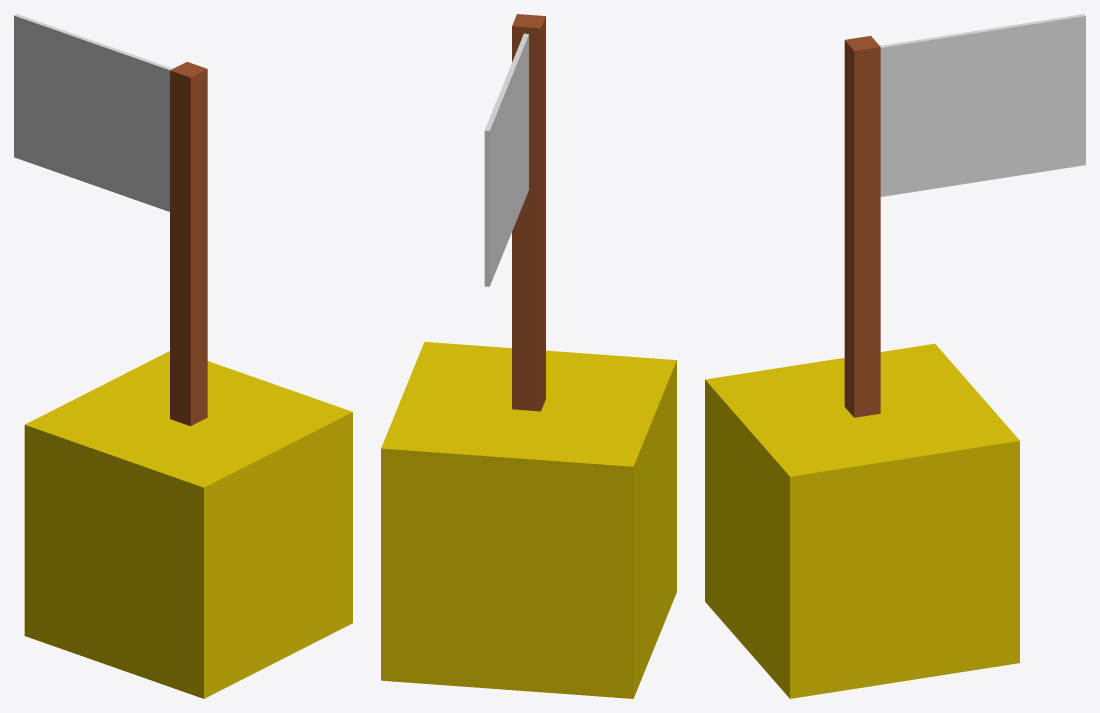
File: Cheese.fbx
The picture shows the model from 3 angles, left to right: view 1: azimuth 30°, elevation 25°; view 2: azimuth 150°, elevation 25°; view 3: azimuth 270°, elevation 25°; orthographic projection. The views are drawn at different scales.
Visible parts, largest first — view 1: Cube.005; view 2: Cube.005; view 3: Cube.005.
Boxes of the visible parts, x1=… form: Cube.005: x1=14, y1=14, x2=352, y2=698; Cube.005: x1=381, y1=14, x2=676, y2=698; Cube.005: x1=705, y1=14, x2=1085, y2=698.
Size of the model in its own units: 7.8 by 16.1 by 9.43.
